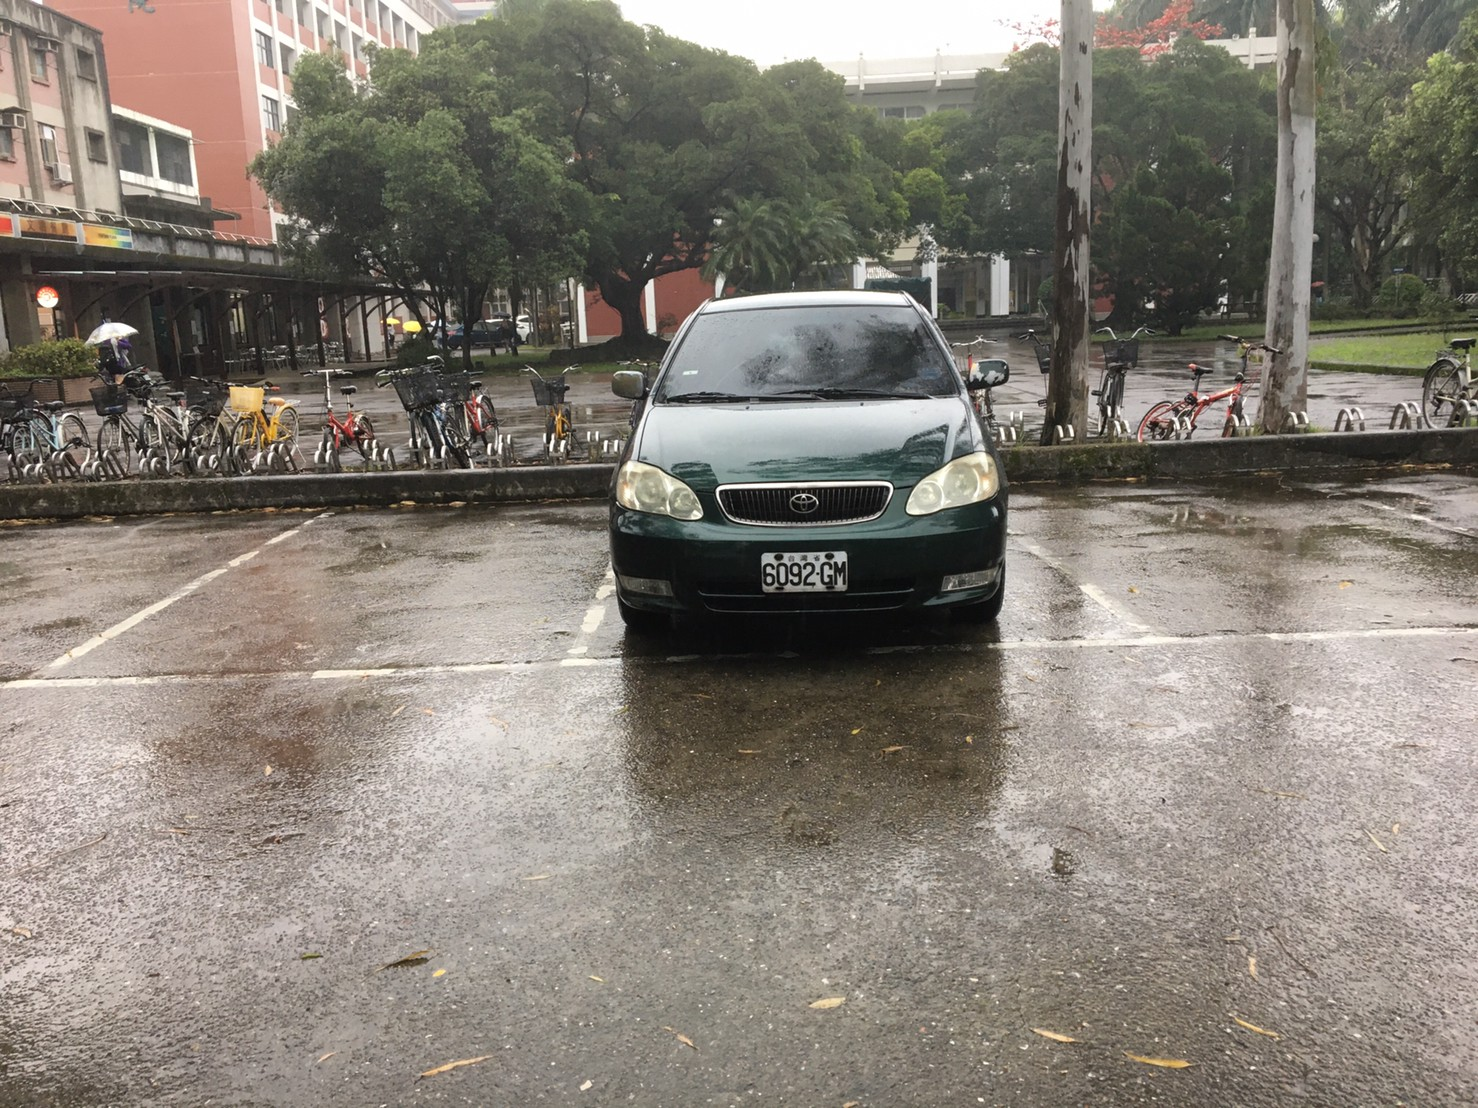LP: (756, 551, 850, 594)
